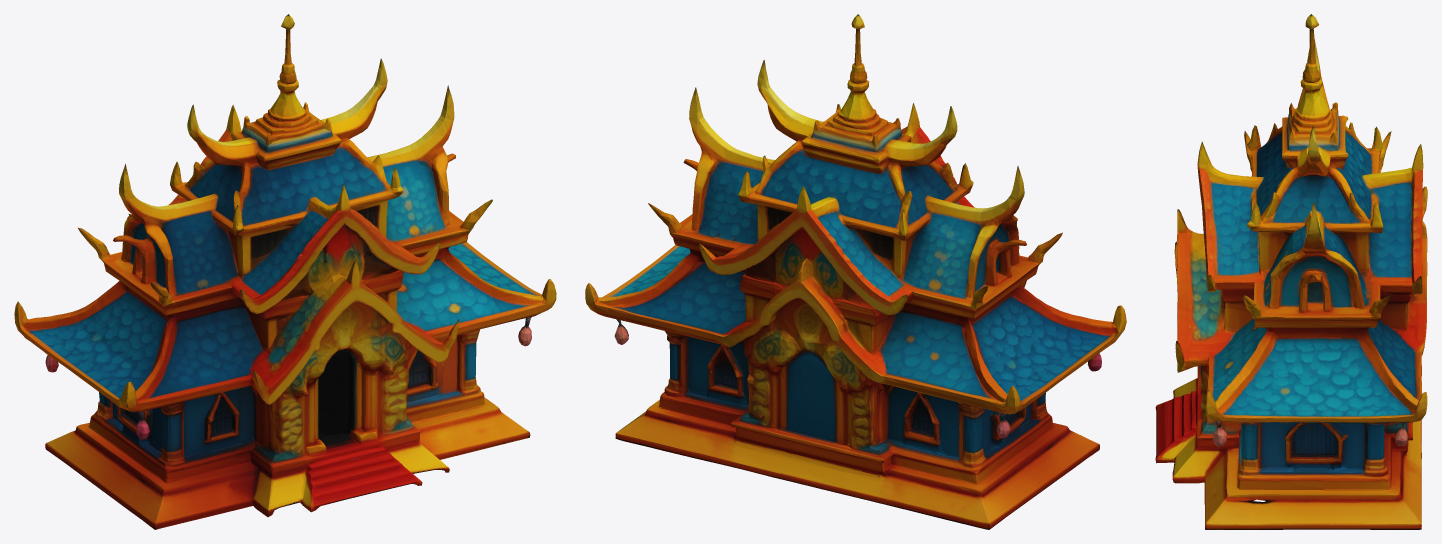
Rendered from thai-temple-golden-thai-with-ornate-design.glb.
The picture shows the model from 3 angles, left to right: view 1: azimuth 30°, elevation 25°; view 2: azimuth 150°, elevation 25°; view 3: azimuth 270°, elevation 25°; orthographic projection.
Parts seen in each view (by area): view 1: world; view 2: world; view 3: world.
Part boxes in pixels (x1,y1,x2,y2): world: (14, 14, 556, 529); world: (585, 14, 1126, 529); world: (1155, 14, 1427, 529).
Size of the model in its own units: 0.9969 by 0.9513 by 0.5505.
Materials: 1 (1 with a texture image).
